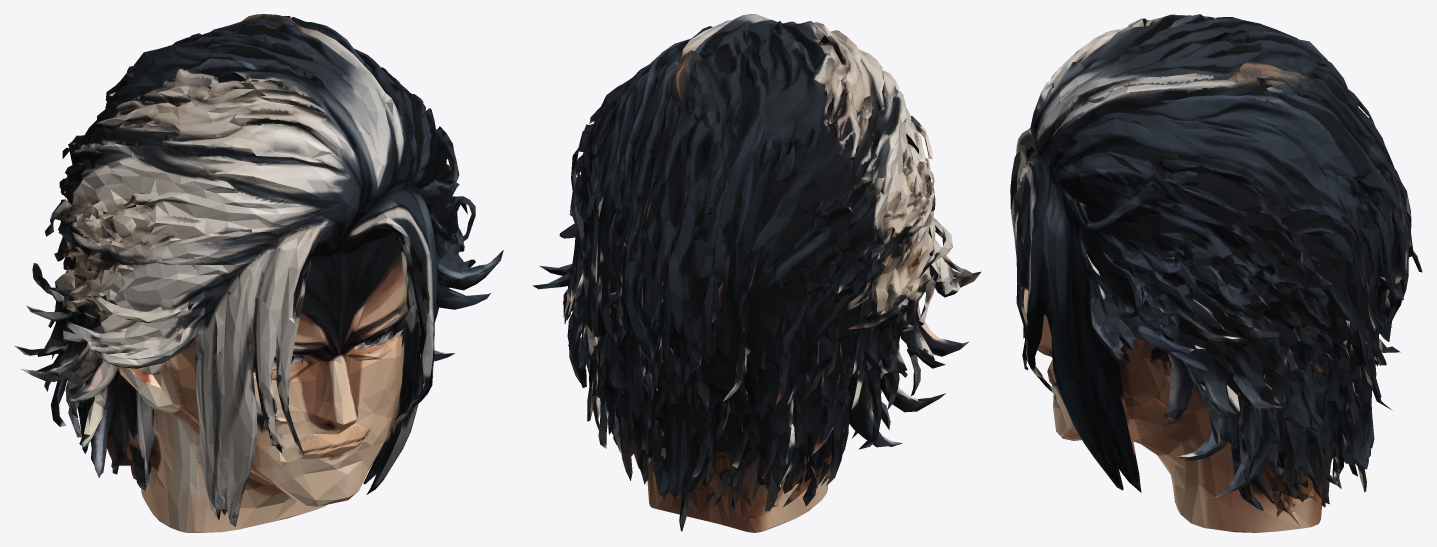
Rendered from side_gonbei_repaired_atlas.glb.
The picture shows the model from 3 angles, left to right: view 1: azimuth 30°, elevation 25°; view 2: azimuth 150°, elevation 25°; view 3: azimuth 270°, elevation 25°; orthographic projection. The views are drawn at different scales.
Visible parts, largest first — view 1: temp_mesh.ply; view 2: temp_mesh.ply; view 3: temp_mesh.ply.
Boxes of the visible parts, box(x1,y1,x2,y2) form: temp_mesh.ply: box(15, 14, 503, 532); temp_mesh.ply: box(532, 14, 981, 532); temp_mesh.ply: box(1010, 14, 1422, 532).
Size of the model in its own units: 1.92 by 1.97 by 1.59.
Materials: 1 (1 with a texture image).
